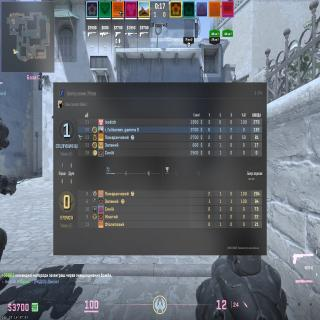CT-Body: (0, 118, 17, 290)
CT-Head: (0, 117, 10, 150)
